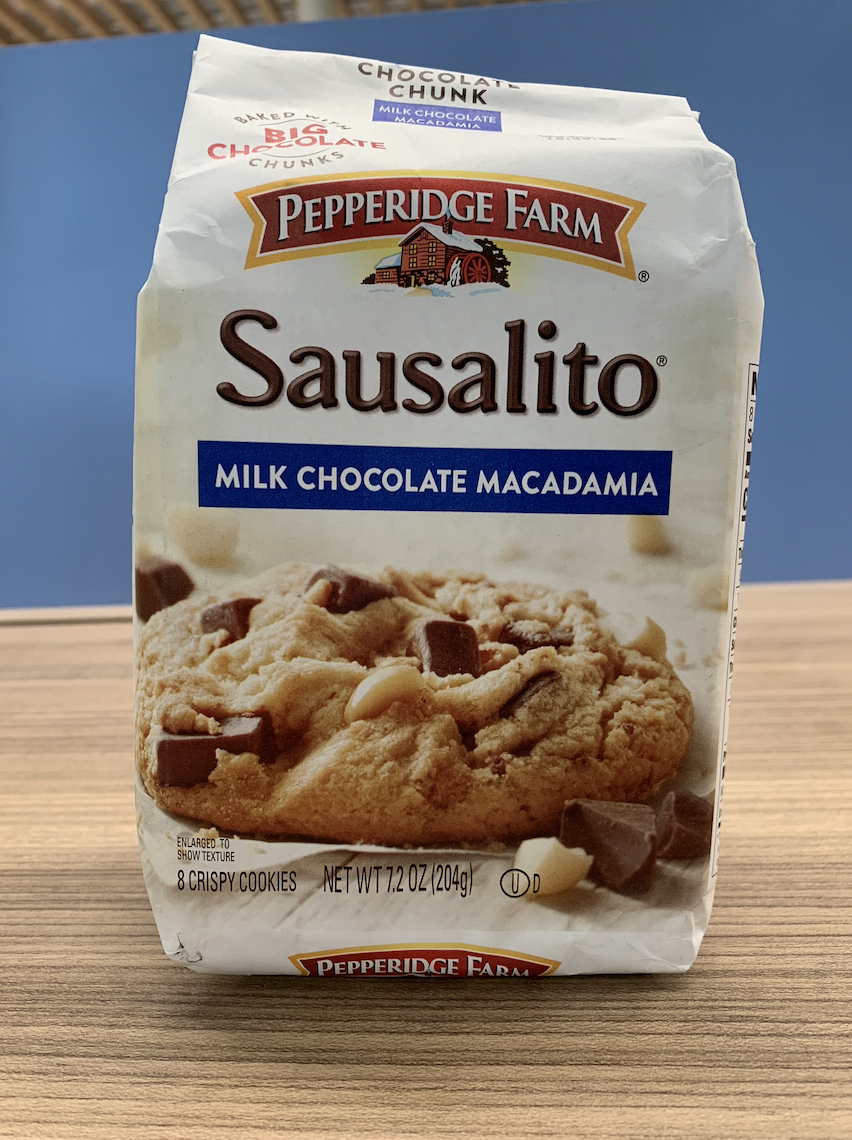cookies_150g: (190, 116, 710, 937)
